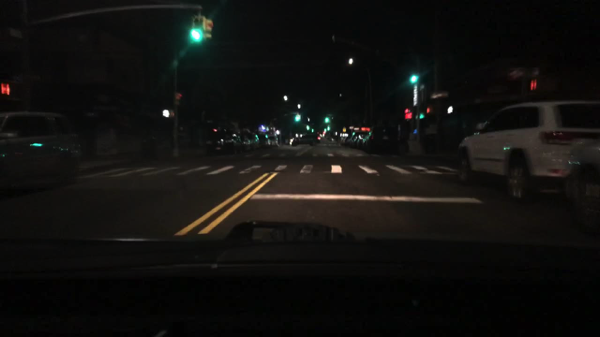car: (455, 100, 599, 200), (0, 111, 82, 189), (562, 138, 598, 226), (206, 127, 241, 156), (366, 126, 398, 153), (289, 134, 321, 146), (356, 127, 370, 150), (238, 133, 251, 153), (258, 134, 271, 148), (267, 134, 279, 148), (250, 133, 259, 150), (348, 131, 357, 147), (344, 131, 354, 145), (339, 132, 348, 143)
traffic light: (188, 16, 202, 41), (200, 16, 213, 42), (0, 80, 14, 96), (402, 107, 413, 121), (528, 78, 537, 92), (161, 109, 174, 118), (408, 74, 418, 85), (445, 105, 454, 115), (423, 106, 432, 115), (174, 92, 182, 101), (294, 114, 301, 123), (324, 117, 330, 125), (305, 125, 310, 132), (326, 125, 331, 132)
traffic sign: (8, 26, 22, 39), (347, 125, 354, 131), (352, 127, 360, 132), (341, 127, 347, 133)
